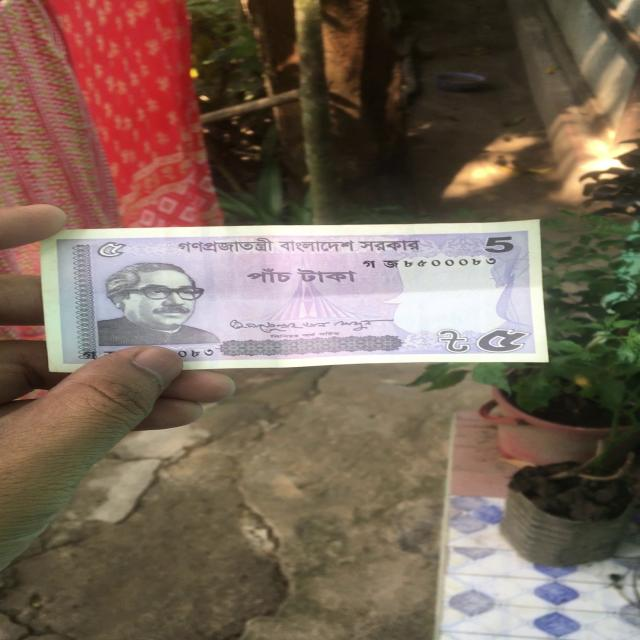Taka: (40, 222, 551, 372)
